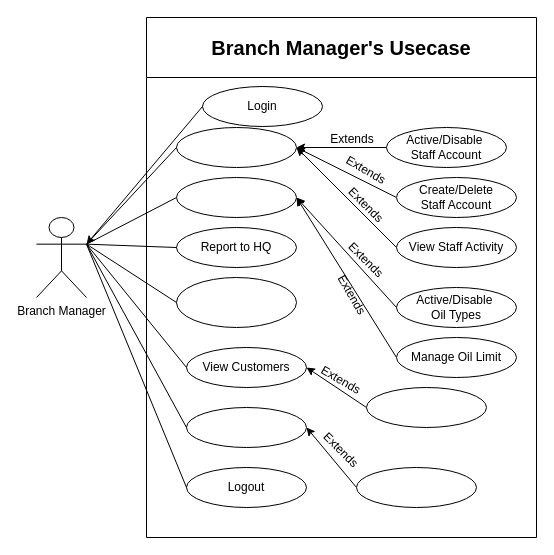
Image size: 554x555. Some labels were removed from this diagram. The centre of each missing label's shape, as x and y in pixels:
"Change to Customer Account" belongs at point (416, 487).
"Edit Profile" belongs at point (246, 427).
"Manage Oil" belongs at point (236, 197).
"Manage Staff" belongs at point (236, 147).
"Monitor & Manage Booking Slots" belongs at point (236, 302).
"View Feedback FromCustomers" belongs at point (426, 407).
